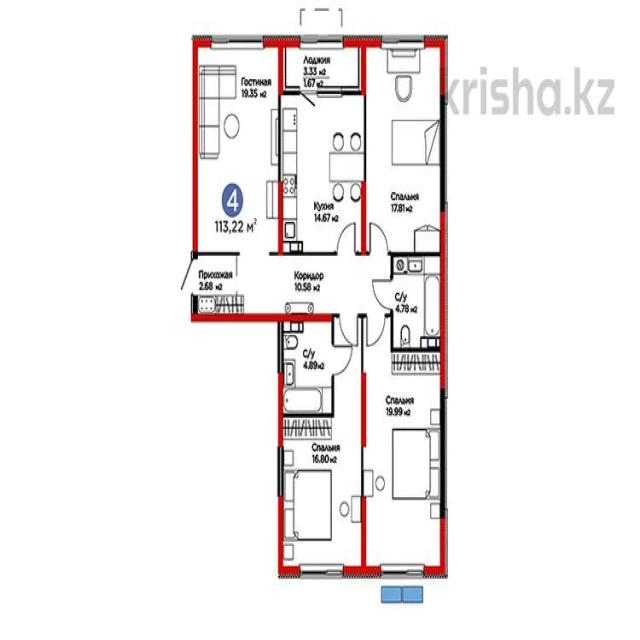balcony: (280, 38, 363, 92)
bathroom: (280, 317, 332, 412), (392, 255, 443, 350)
hallway: (248, 256, 394, 315), (192, 251, 247, 317)
kitchen: (281, 89, 364, 252)
living_room: (362, 349, 444, 574), (195, 41, 282, 253), (364, 40, 442, 254), (281, 413, 364, 570)
